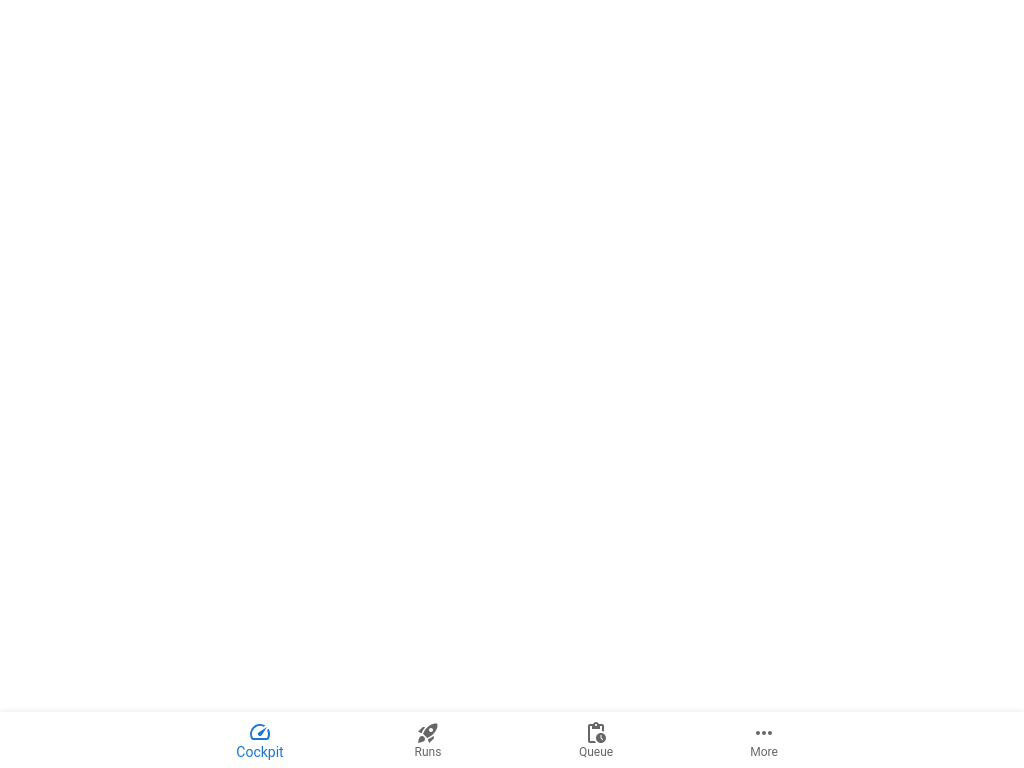
Test case: BottomNav › The More sheet › closes when a destination is chosen
This screenshot has width=1024, height=768.
Click the button with aria-label "More destinations". click: [764, 740]
box: [680,712,848,767]
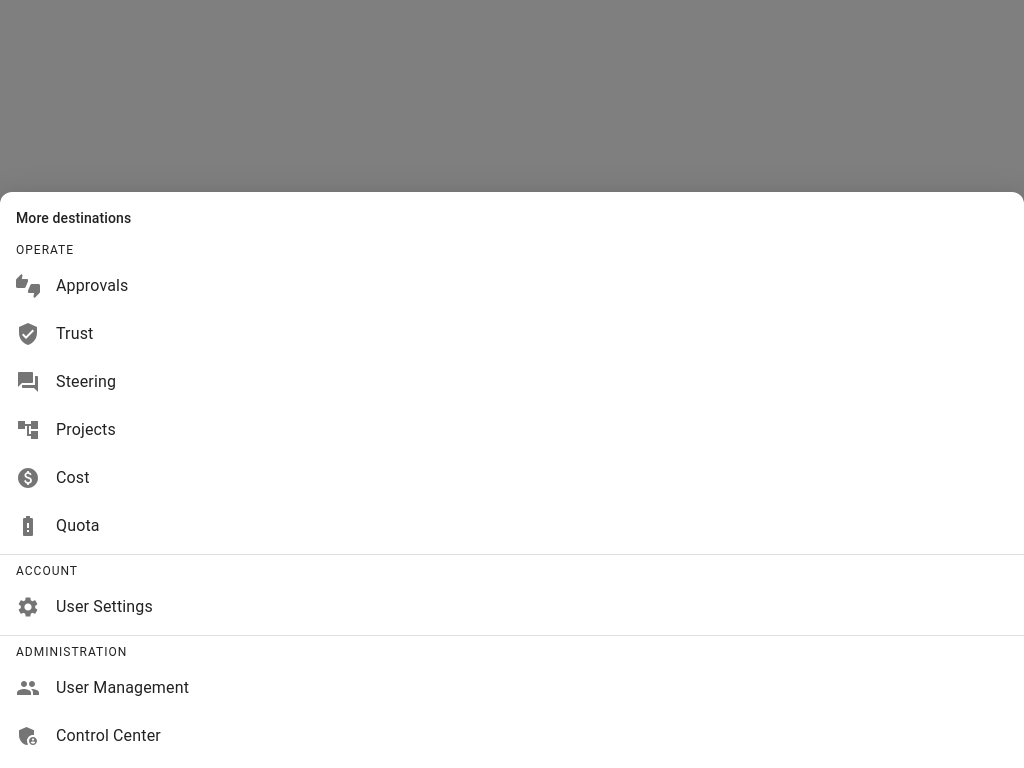
Click the link "User Settings". click: [84, 607]
box: [16,595,153,619]
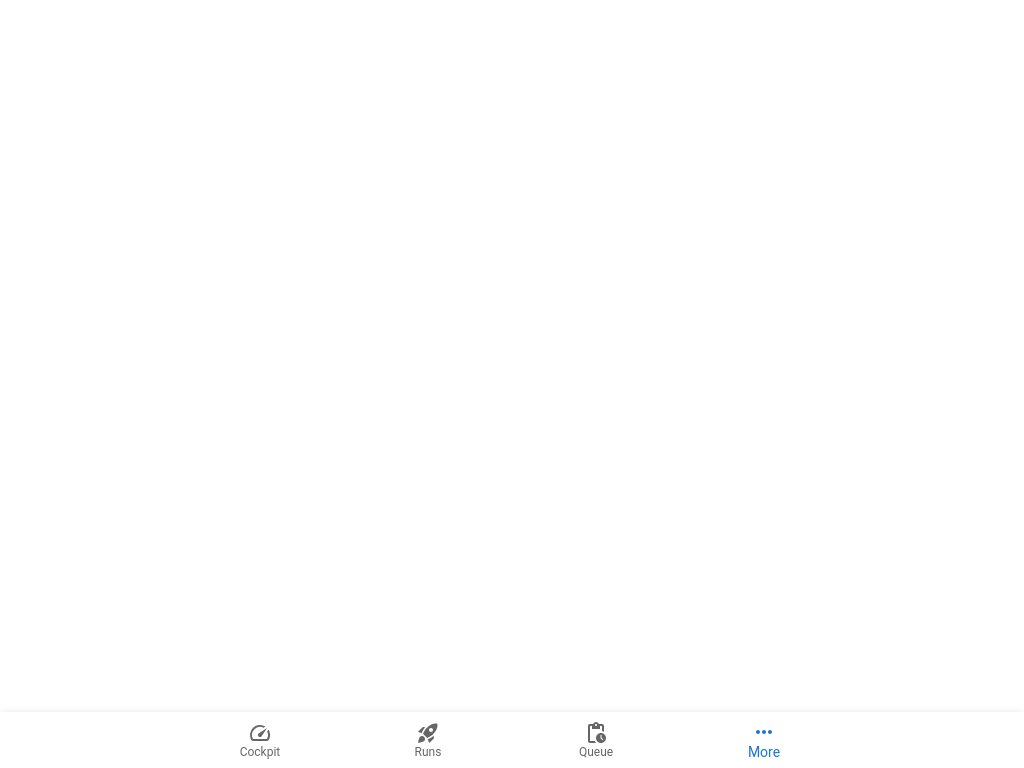
Expected: the dialog is gone
